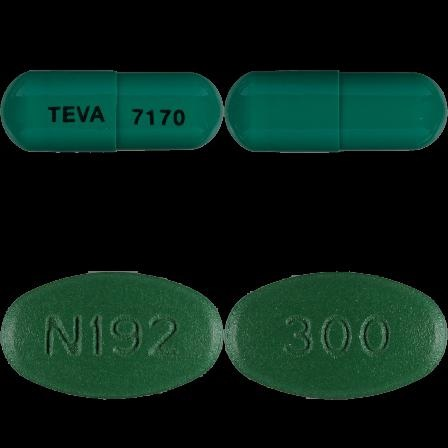42291-195: (0, 0, 224, 224)
